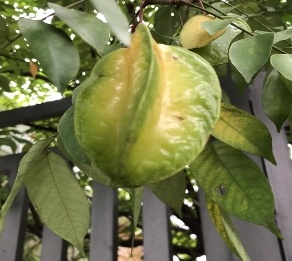Khe: (69, 21, 227, 192)
